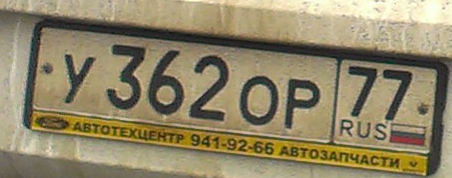character: (190, 52, 231, 123), (107, 42, 146, 114), (149, 45, 186, 118), (239, 75, 282, 129), (286, 75, 322, 136), (381, 64, 414, 123), (63, 50, 96, 108), (348, 62, 378, 120)
